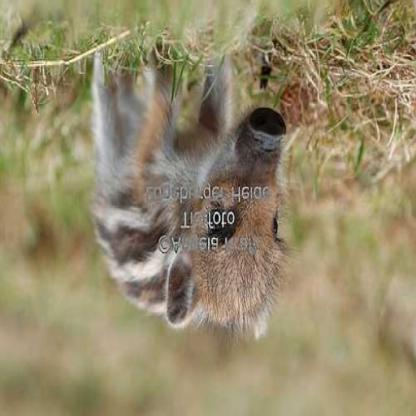boar: (73, 56, 362, 346)
